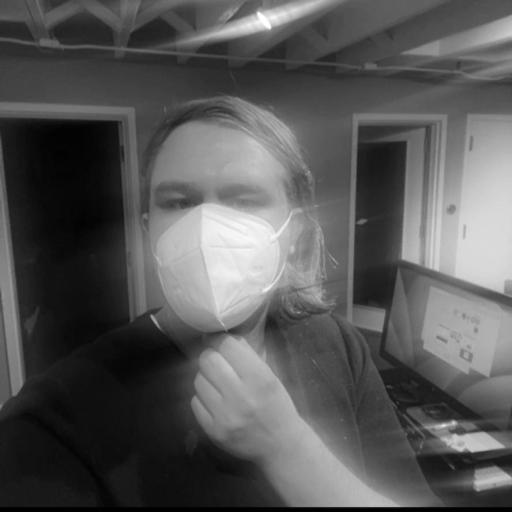mask: (122, 74, 314, 345)
